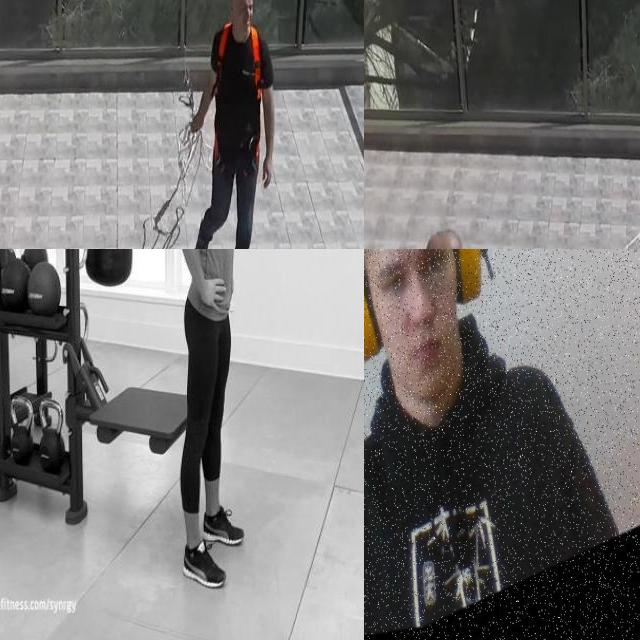Ear-protection: (364, 249, 503, 452)
Harness: (217, 24, 264, 108)
hand_noglove: (187, 264, 230, 324)
person: (176, 249, 244, 588)
